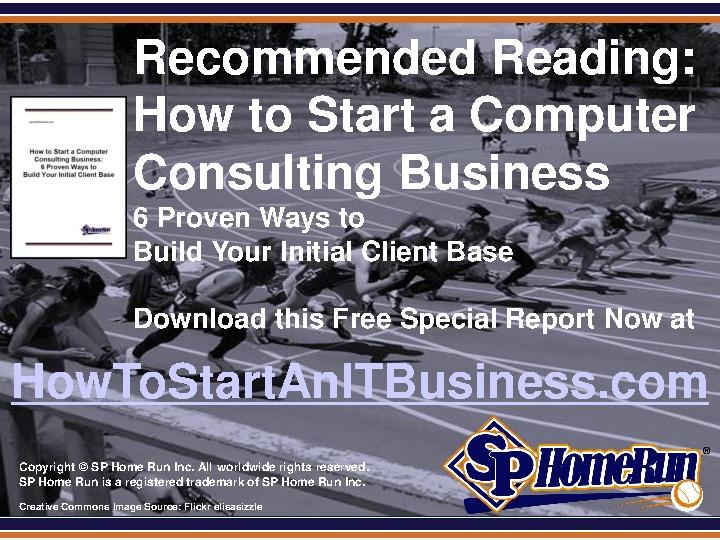subtitle: (1, 294, 715, 421), (17, 426, 715, 539)
title: (128, 27, 720, 270)
